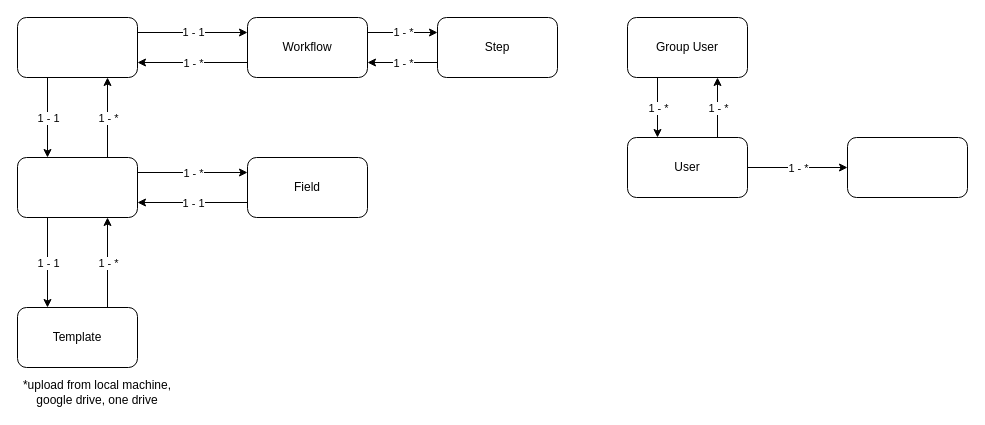
This 985x425 diagram has some shape labels left out. The centre of each missing label's shape, as x and y in pixels:
"Document" goes at (x=77, y=187).
"NDA" goes at (x=77, y=47).
"Permission" goes at (x=907, y=167).
